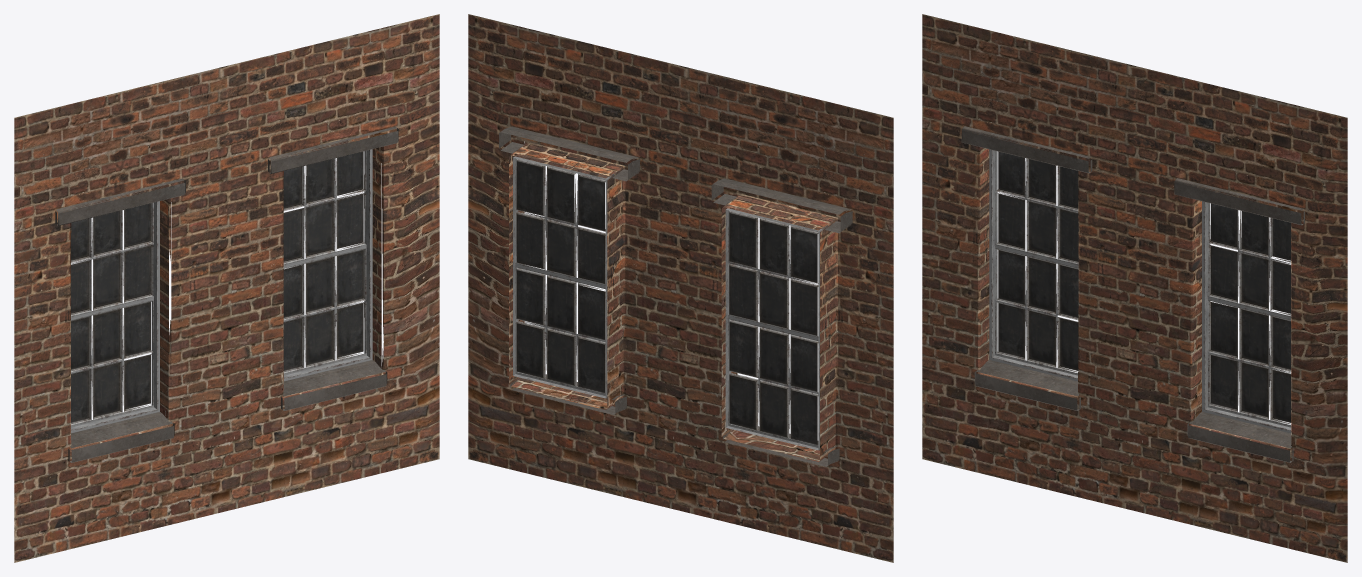
Rendered from bay_window_b.gltf.
The picture shows the model from 3 angles, left to right: view 1: azimuth 30°, elevation 25°; view 2: azimuth 150°, elevation 25°; view 3: azimuth 330°, elevation 25°; orthographic projection.
Visible parts, largest first — view 1: bay_window_b; view 2: bay_window_b; view 3: bay_window_b.
Boxes of the visible parts, bbox=[...] form: bay_window_b: bbox=[14, 14, 439, 562]; bay_window_b: bbox=[468, 14, 893, 562]; bay_window_b: bbox=[922, 14, 1347, 562].
Bounding box in the file's own units: 3 × 3 × 0.23.
Materials: 3 (3 with a texture image).
